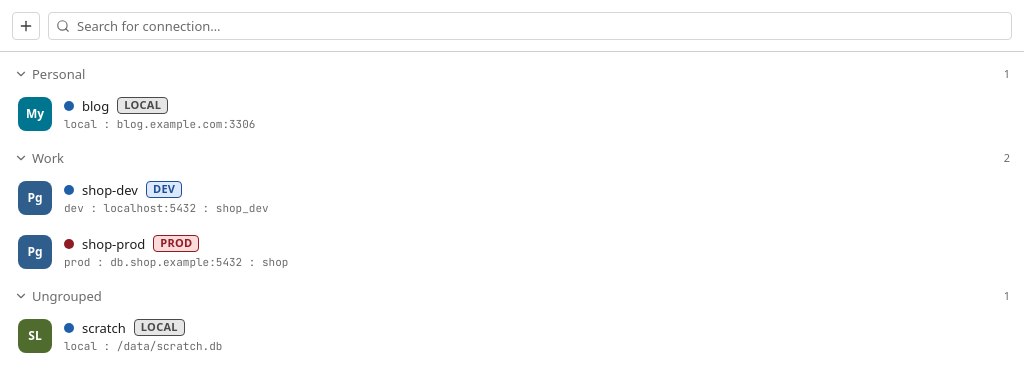
Test: search_filters_connections by name, group, host or database; collapsed groups open
Click the button with aria-label "Toggle group Work": (48, 158) [8,144,1016,172]
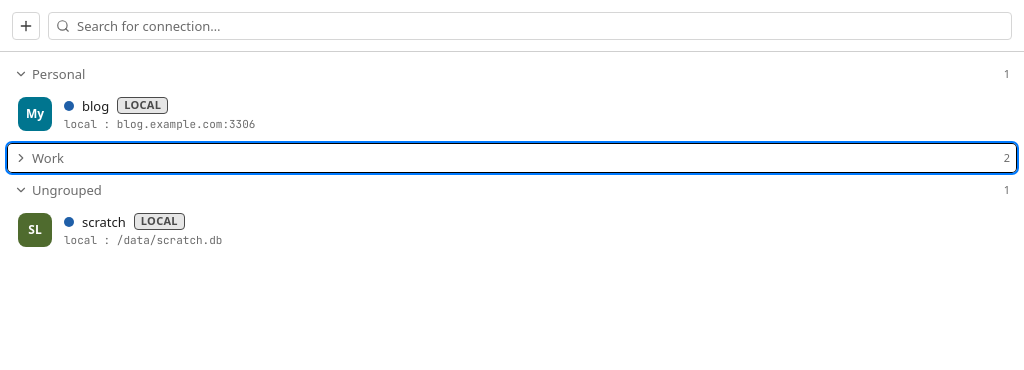
In the search field named "Search connections": (530, 26) [48,12,1012,40], type "work"
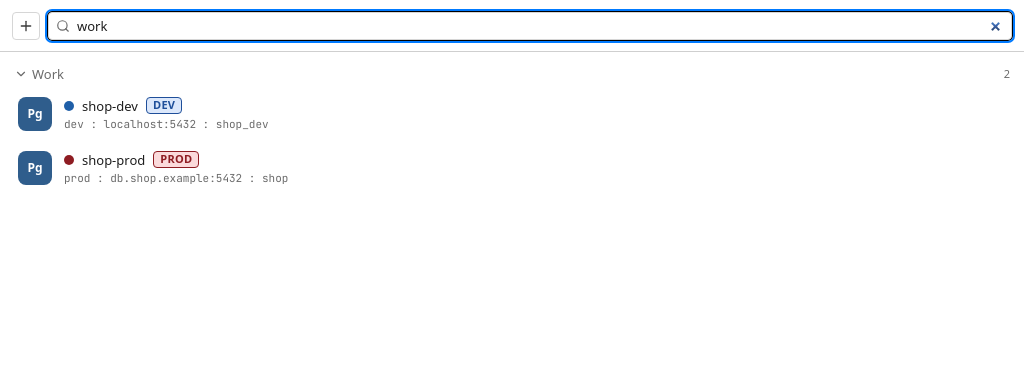
Expected: the option "blog" is gone
Replace the text in the search field named "Search connections" with "blog.example": (530, 26) [48,12,1012,40]
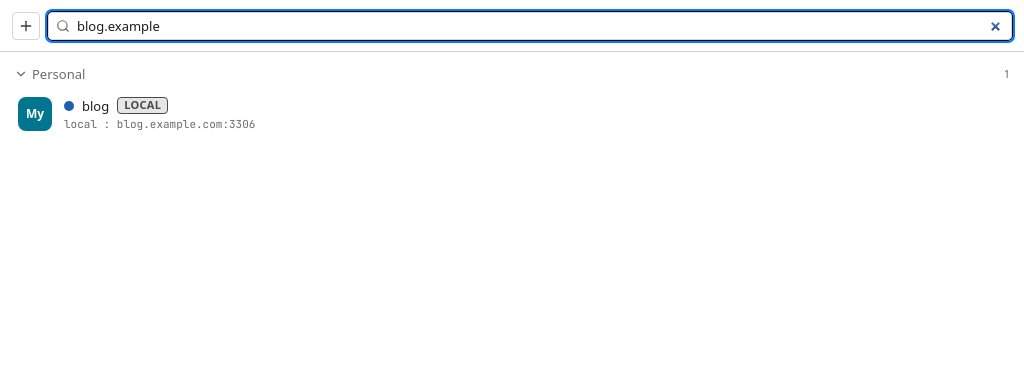
Replace the text in the search field named "Search connections" with "shop_dev": (530, 26) [48,12,1012,40]
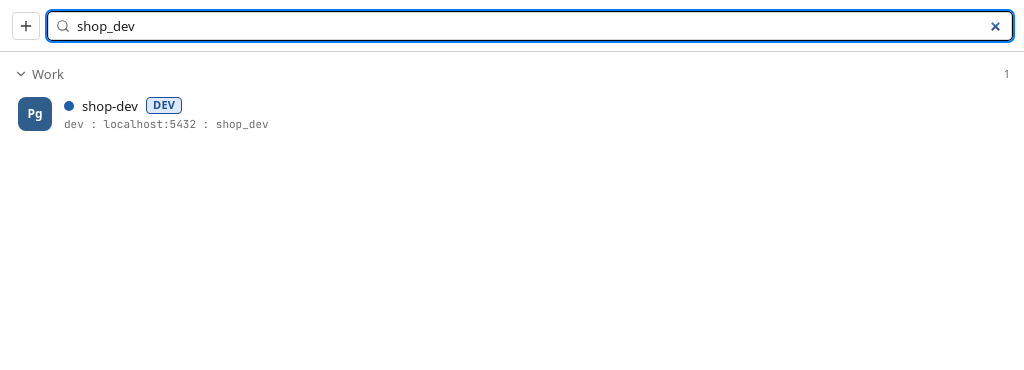
Replace the text in the search field named "Search connections" with "nothing like it": (530, 26) [48,12,1012,40]
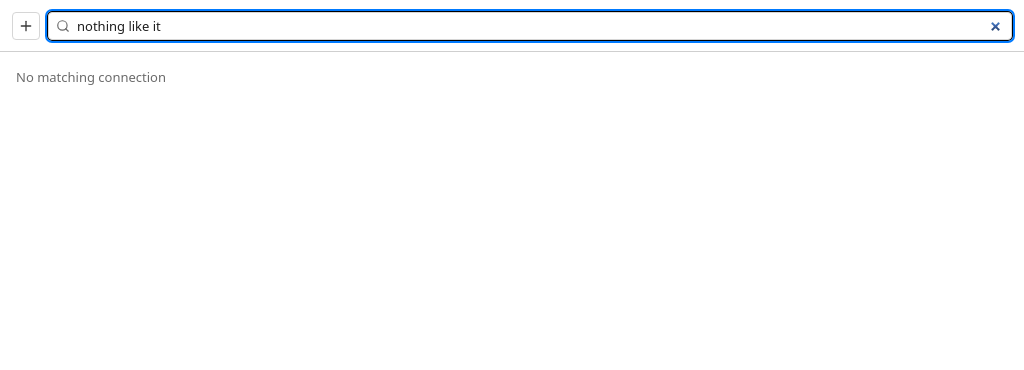
Expected: the text "No matching connection" is shown, [16,68,166,86]
